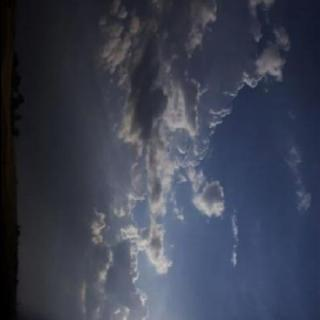Cumulonimbus: (41, 0, 320, 320)
